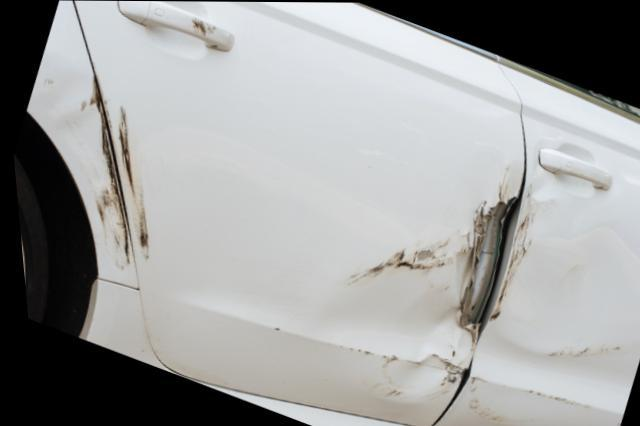crack: (456, 183, 512, 342)
dent: (316, 231, 463, 404), (486, 228, 640, 355), (24, 55, 113, 230)
scratch: (91, 93, 151, 272)
